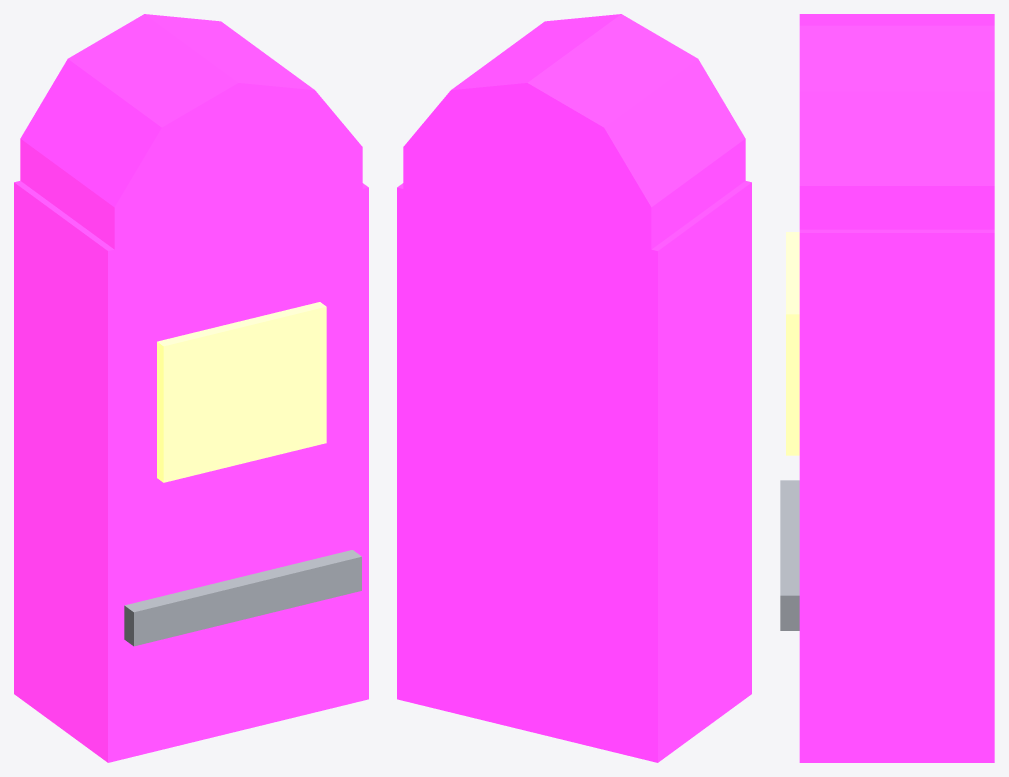
The model's file is arcade_jukebox.glb.
The picture shows the model from 3 angles, left to right: view 1: azimuth 30°, elevation 25°; view 2: azimuth 150°, elevation 25°; view 3: azimuth 270°, elevation 25°; orthographic projection. The views are drawn at different scales.
Visible parts, largest first — view 1: arcade_jukebox; view 2: arcade_jukebox; view 3: arcade_jukebox.
Boxes of the visible parts, x1,y1,x2,y2 form: arcade_jukebox: (14, 14, 368, 762); arcade_jukebox: (397, 14, 751, 762); arcade_jukebox: (780, 14, 994, 762).
Size of the model in its own units: 0.8 by 1.9 by 0.55.
